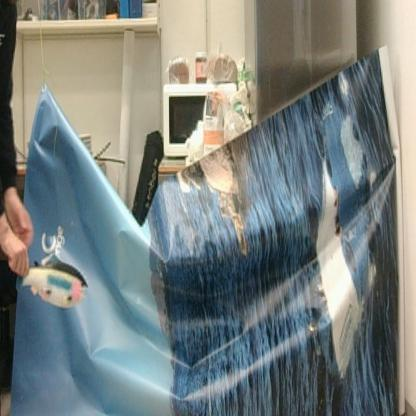rubberfish: (17, 250, 90, 312)
